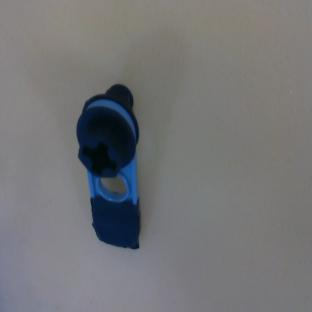part_1_bad: (76, 84, 141, 249)
